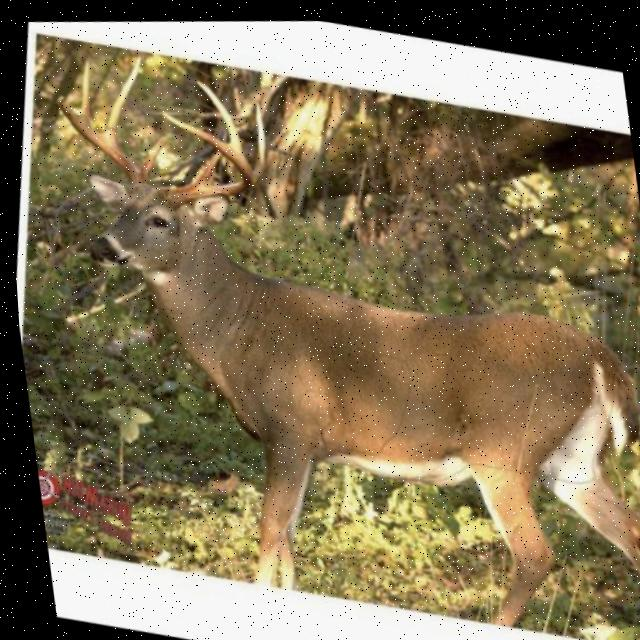L-G1: (135, 133, 166, 180)
L-G2: (100, 53, 140, 143)
L-G3: (78, 58, 90, 123)
R-F: (158, 108, 254, 205)
R-G1: (187, 147, 220, 181)
R-G2: (251, 97, 265, 181)
R-G3: (196, 77, 243, 154)
